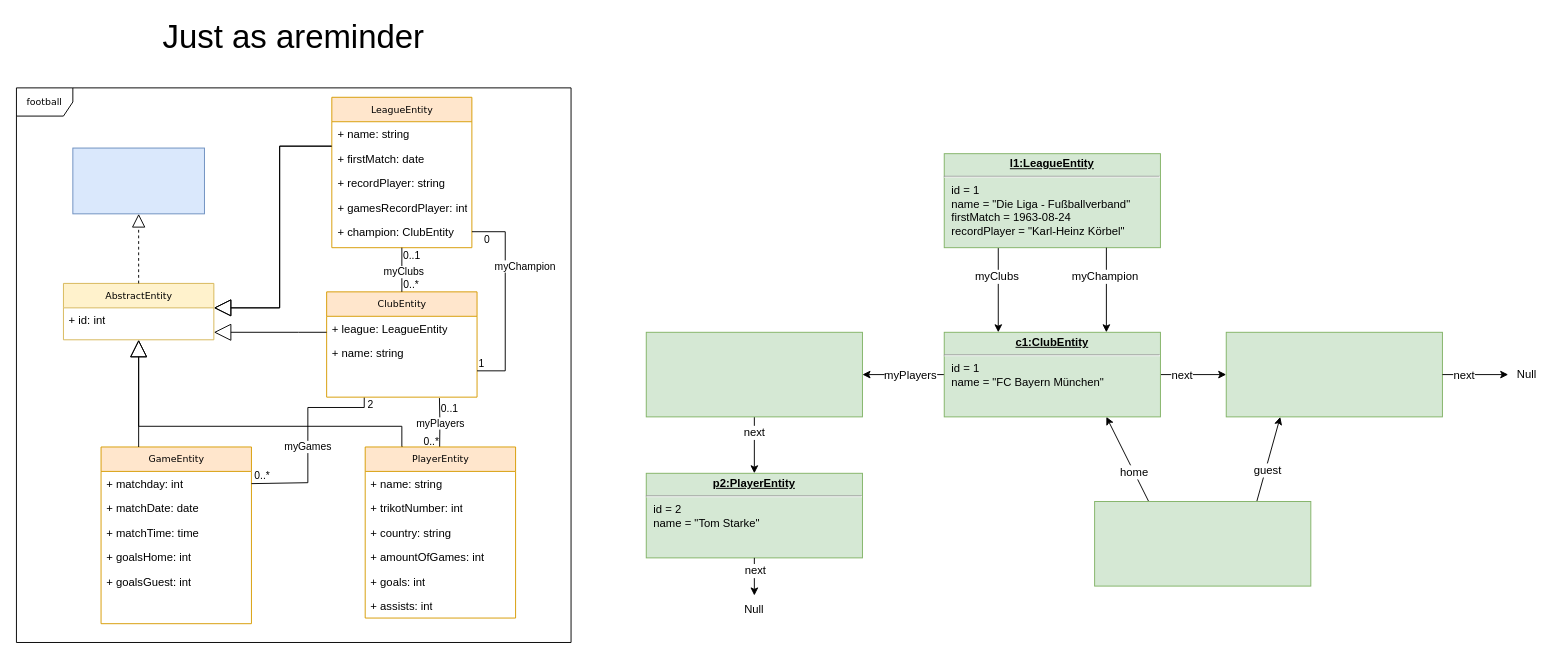
Image size: 1562x659. Some labels were removed from this diagram. The shapes that lost their labels are listed below. From the top down, each one's centre as x and y in pixels, then its label:
point 138,180: <<interface>> SizeInterface + getObjectSize(): int
point 753,374: p1:PlayerEntity id = 1 name = "Manuel Neuer"
point 1333,374: c2:ClubEntity id = 2 name = "VfL Wolfsburg"
point 1202,543: g1:GameEntity id = 1 matchDate = 2015-08-14
